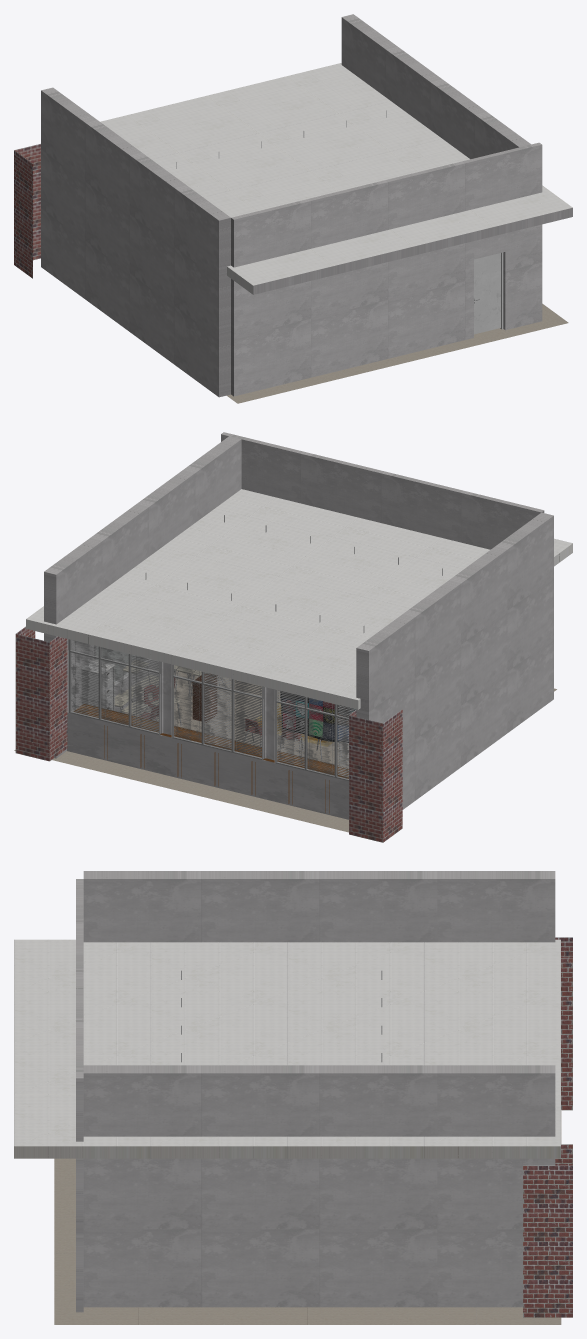
Rendered from american_school_classroom_interior_high-poly.glb.
3 renders of one model, top to bottom at view 1: azimuth 30°, elevation 25°; view 2: azimuth 150°, elevation 25°; view 3: azimuth 270°, elevation 25°, orthographic. The views are drawn at different scales.
Parts seen in each view (by area): view 1: Cube.024, Cube.014, Cube.022, Cube.010, Cube.009, Cube.019; view 2: Cube.022, Cube.024, Cube.014, Cube.010, Cube.017, Cube.009, Cube.029, Cube.015, Cube.018, Cube.016, Plane, Cube.002 (+10 smaller); view 3: Cube.024, Cube.022, Cube.009, Cube.010, Cube.014.
Boxes of the visible parts, x1=… form: Cube.024: x1=41, y1=14, x2=530, y2=397; Cube.014: x1=231, y1=142, x2=542, y2=396; Cube.022: x1=100, y1=63, x2=572, y2=294; Cube.010: x1=14, y1=143, x2=40, y2=278; Cube.009: x1=227, y1=303, x2=568, y2=403; Cube.019: x1=474, y1=253, x2=500, y2=334; Cube.022: x1=26, y1=489, x2=572, y2=709; Cube.024: x1=44, y1=436, x2=553, y2=809; Cube.014: x1=221, y1=432, x2=544, y2=549; Cube.010: x1=15, y1=626, x2=402, y2=842; Cube.017: x1=67, y1=712, x2=348, y2=819; Cube.009: x1=14, y1=670, x2=556, y2=832; Cube.029: x1=68, y1=639, x2=161, y2=734; Cube.015: x1=171, y1=664, x2=264, y2=759; Cube.018: x1=274, y1=689, x2=355, y2=780; Cube.016: x1=73, y1=704, x2=348, y2=813; Plane: x1=280, y1=691, x2=355, y2=742; Cube.002: x1=159, y1=661, x2=275, y2=762; Cube.024: x1=83, y1=871, x2=555, y2=1307; Cube.022: x1=14, y1=939, x2=560, y2=1158; Cube.009: x1=54, y1=1111, x2=561, y2=1324; Cube.010: x1=523, y1=937, x2=572, y2=1317; Cube.014: x1=76, y1=879, x2=83, y2=1312.
Size of the model in its own units: 9.43 by 4.58 by 9.58.
4 materials, 4 textured.
